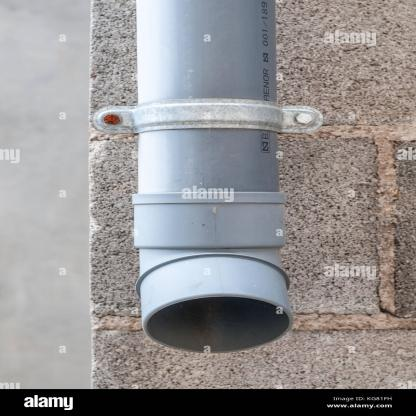PVC: (131, 1, 294, 353)
